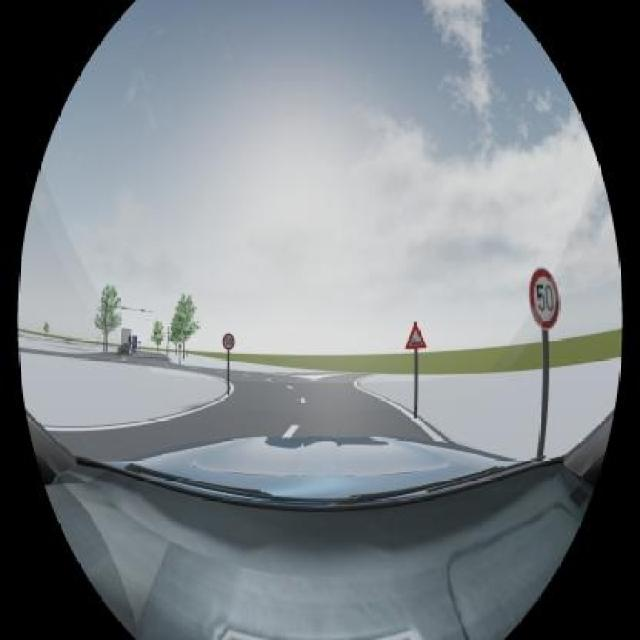forb_speed_over_50: (529, 268, 562, 328), (222, 334, 235, 349)
